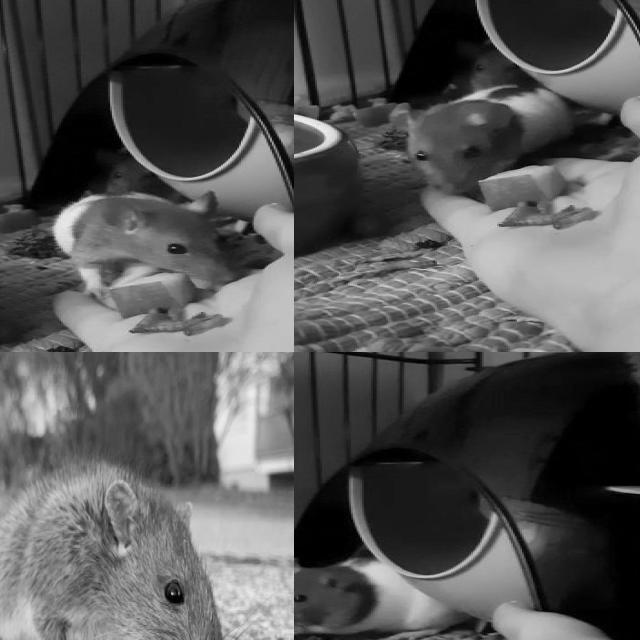rat: (0, 449, 243, 640), (389, 79, 582, 198), (51, 188, 243, 302), (294, 560, 475, 640), (444, 34, 542, 90)
